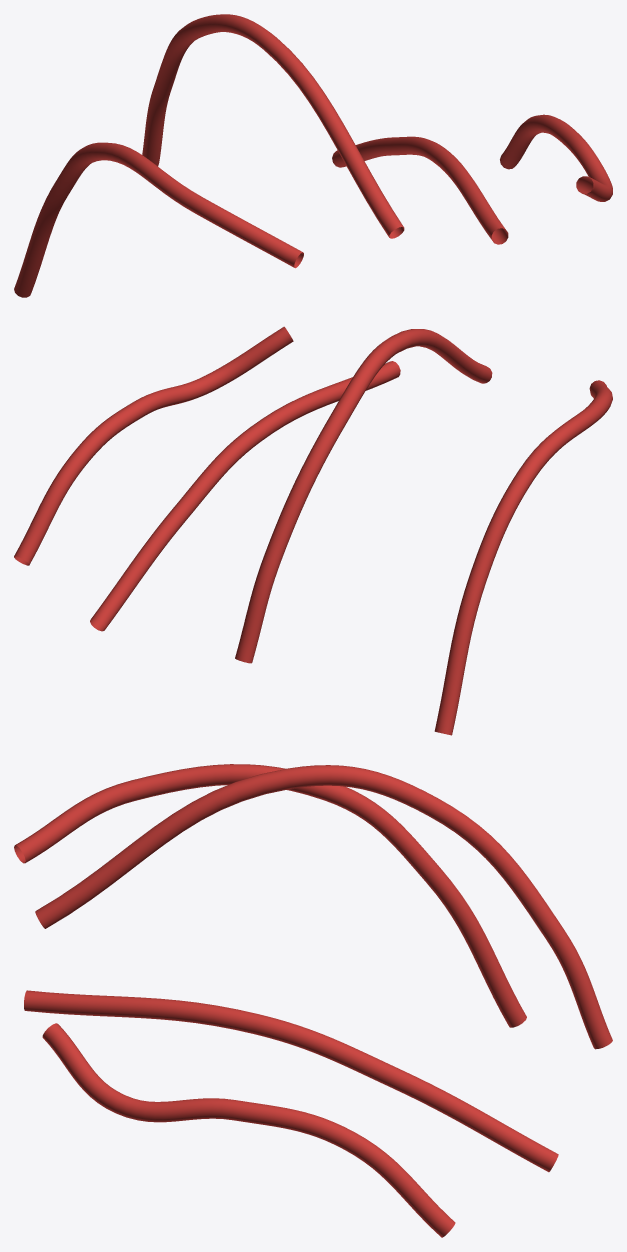
The picture shows the model from 3 angles, top to bottom: view 1: azimuth 30°, elevation 25°; view 2: azimuth 150°, elevation 25°; view 3: azimuth 270°, elevation 25°; orthographic projection. The views are drawn at different scales.
Visible parts, largest first — view 1: 左侧掌心动脉; view 2: 左侧掌心动脉; view 3: 左侧掌心动脉.
Part boxes in pixels (box(x1,y1,x2,y2)): 左侧掌心动脉: box(14, 14, 612, 297); 左侧掌心动脉: box(14, 326, 612, 735); 左侧掌心动脉: box(14, 764, 612, 1237).
Bounding box in the file's own units: 0.0621 × 0.0373 × 0.0592.
